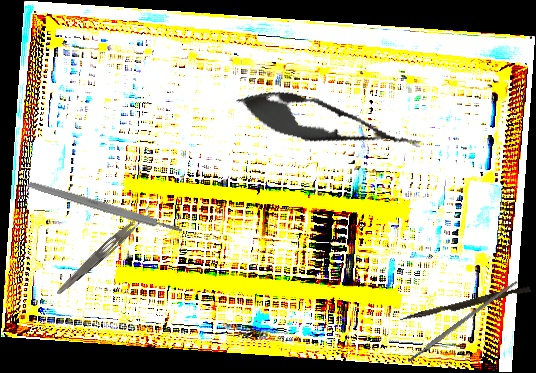Dressing Forceps: (53, 203, 157, 300)
Micro Scissor: (230, 78, 429, 168)
Pusher: (399, 282, 531, 327)
Scalpel Handle: (406, 278, 519, 364), (28, 179, 183, 236)
